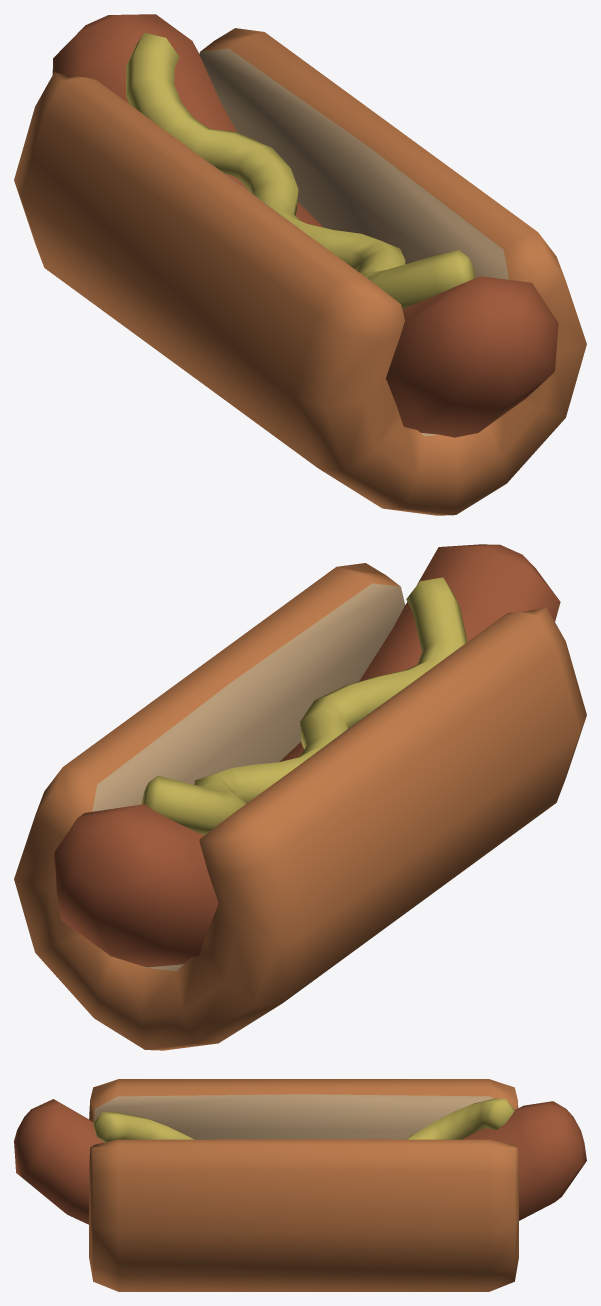
Rendered from HotDog_01.fbx.
The picture shows the model from 3 angles, top to bottom: view 1: azimuth 30°, elevation 25°; view 2: azimuth 150°, elevation 25°; view 3: azimuth 270°, elevation 25°; orthographic projection. The views are drawn at different scales.
Visible parts, largest first — view 1: HotDog_01; view 2: HotDog_01; view 3: HotDog_01.
Boxes of the visible parts, box(x1,y1,x2,y2) form: HotDog_01: box(14, 14, 586, 515); HotDog_01: box(14, 544, 586, 1050); HotDog_01: box(14, 1079, 586, 1291).
Size of the model in its own units: 0.0845 by 0.0779 by 0.2165.
